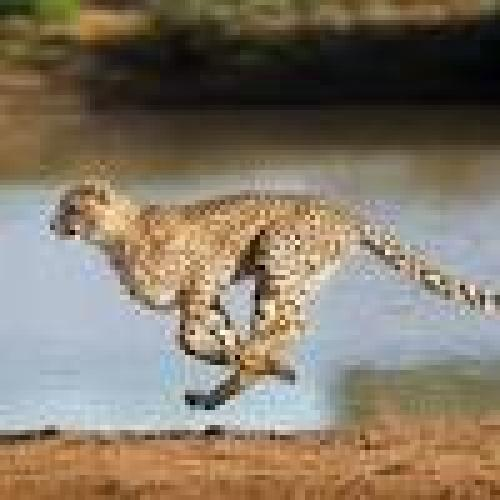cheetah-endangered: (42, 175, 492, 413)
